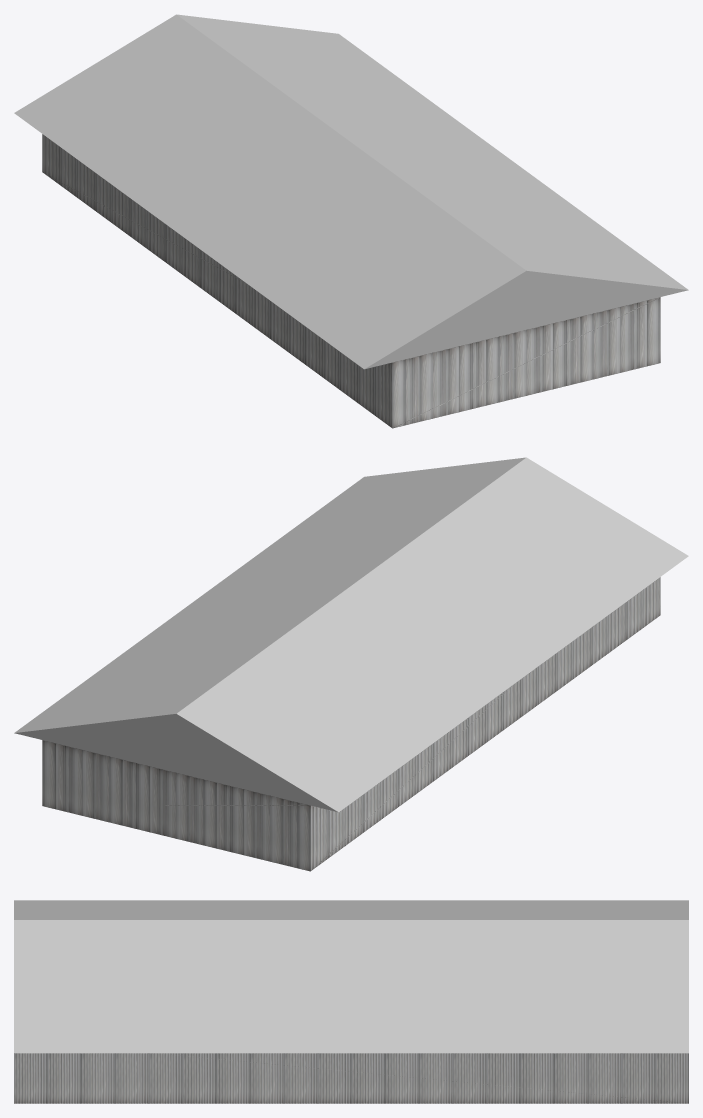
File: WearHouse2.FBX
The picture shows the model from 3 angles, top to bottom: view 1: azimuth 30°, elevation 25°; view 2: azimuth 150°, elevation 25°; view 3: azimuth 270°, elevation 25°; orthographic projection. The views are drawn at different scales.
Visible parts, largest first — view 1: Object024, Box003; view 2: Object024, Box003; view 3: Object024, Box003.
Boxes of the visible parts, <box> form: Object024: <box>14,14,688,369</box>; Box003: <box>42,134,660,428</box>; Object024: <box>14,457,688,812</box>; Box003: <box>42,577,660,871</box>; Object024: <box>14,900,688,1053</box>; Box003: <box>14,1053,688,1103</box>.
Size of the model in its own units: 97463 by 181980 by 35851.
